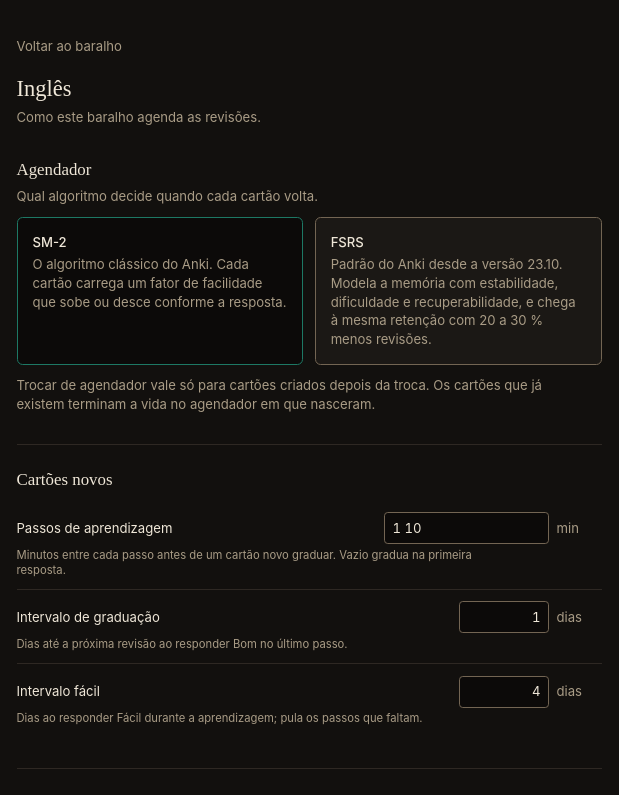
OpcoesDoBaralho › mostra o erro do backend em vez de fingir que salvou
Expected: the radio button labelled "SM-2" is shown, [16,216,303,365]
Click the radio button labelled "FSRS" at (458, 291), box [315,216,602,365]
(page scrolled)
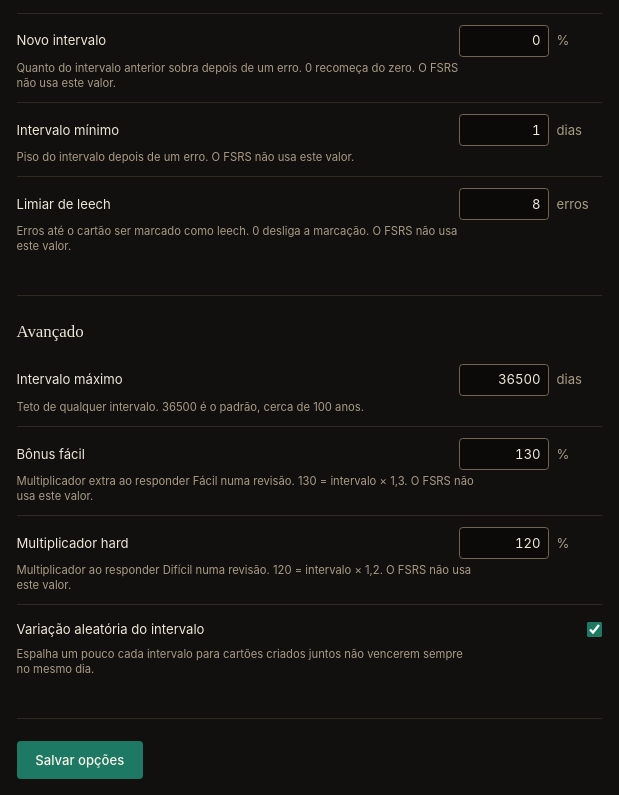
Click the button "Salvar opções" at (80, 760), box [16,741,143,779]
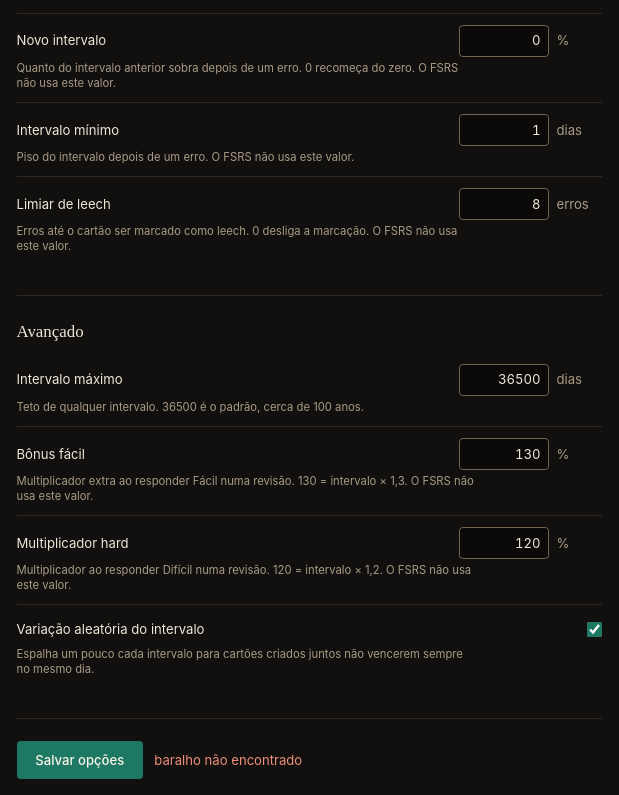
Now the message reads "baralho não encontrado", box [154,752,302,768]
